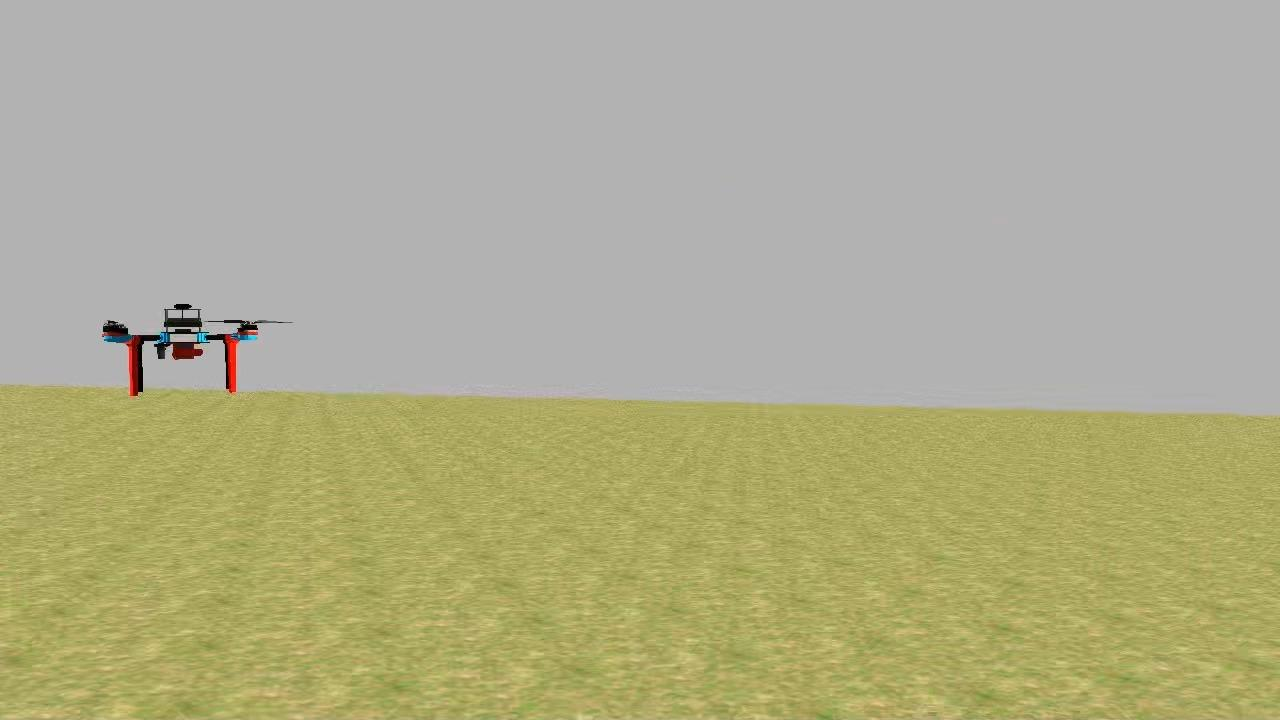UAV: (99, 291, 268, 413)
